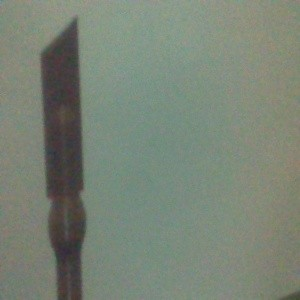cutter: (39, 17, 88, 300)
